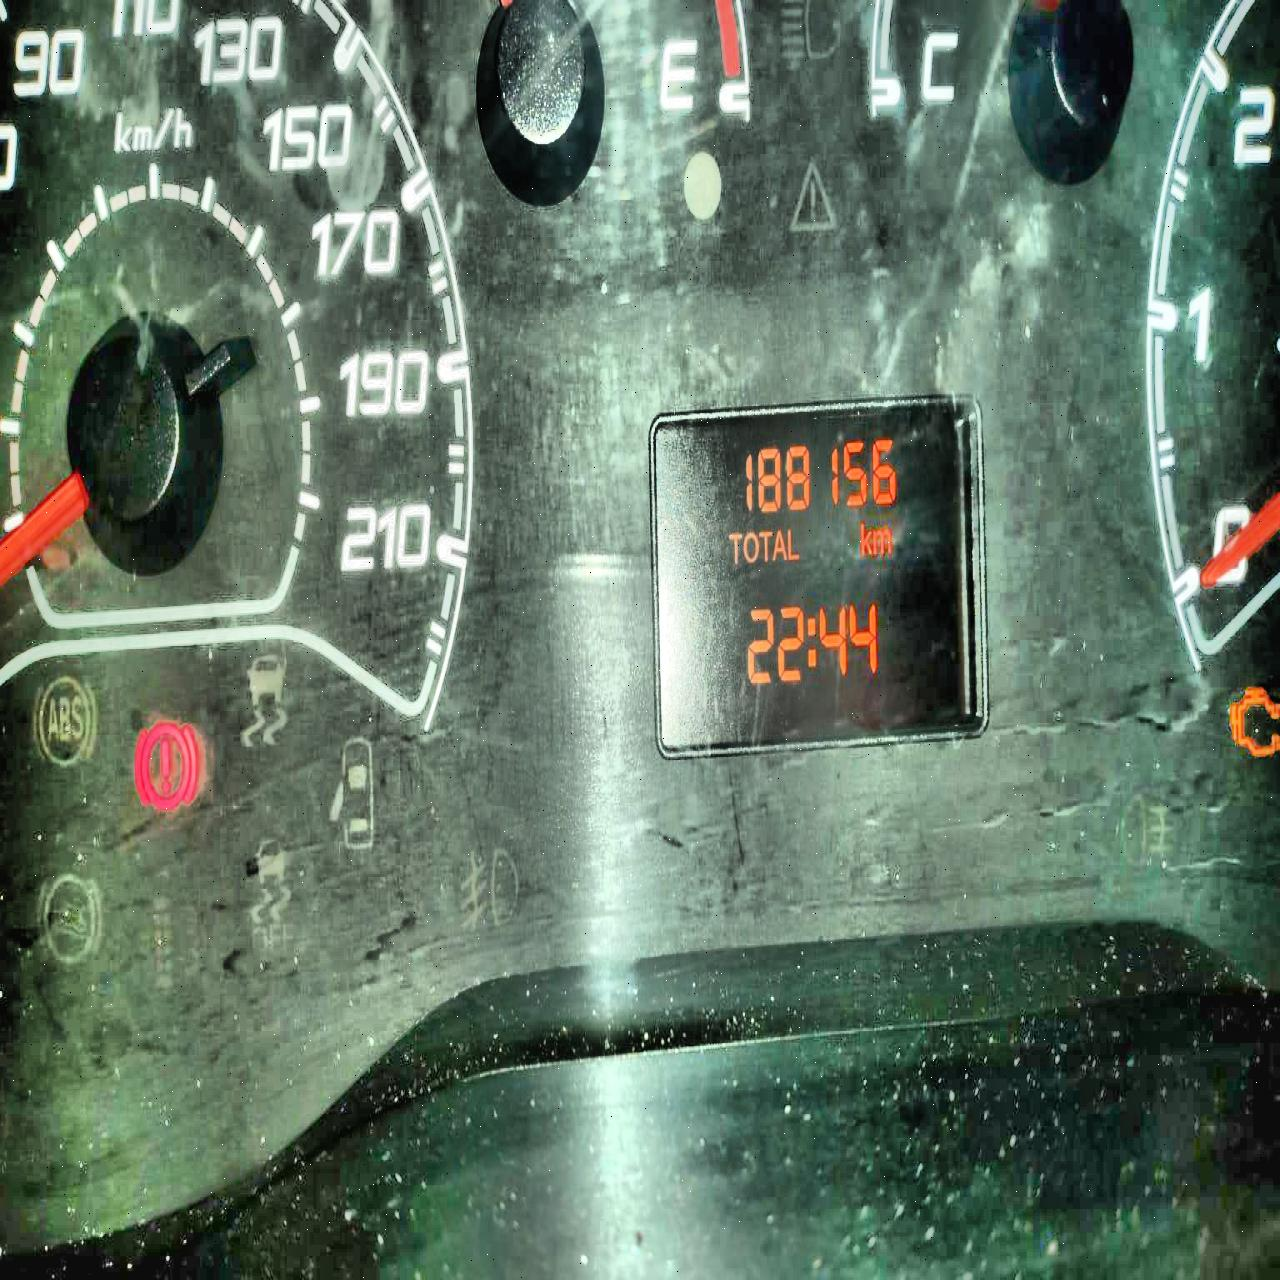1: (743, 449, 754, 511), (830, 445, 838, 504)
2: (745, 606, 775, 685), (777, 605, 804, 682), (785, 443, 810, 511), (757, 445, 781, 511)
4: (818, 604, 847, 675), (849, 602, 878, 674)
5: (843, 438, 866, 505)
6: (872, 437, 896, 504)
X: (805, 613, 817, 668), (871, 526, 892, 556), (743, 531, 760, 565), (757, 529, 772, 563), (771, 529, 787, 563), (858, 520, 872, 556), (785, 526, 799, 560), (729, 531, 742, 565)
odometer: (644, 386, 989, 764)
